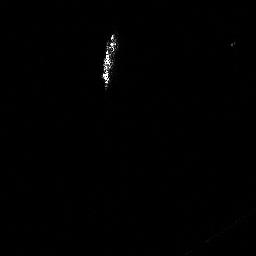ship: (97, 29, 124, 92)
